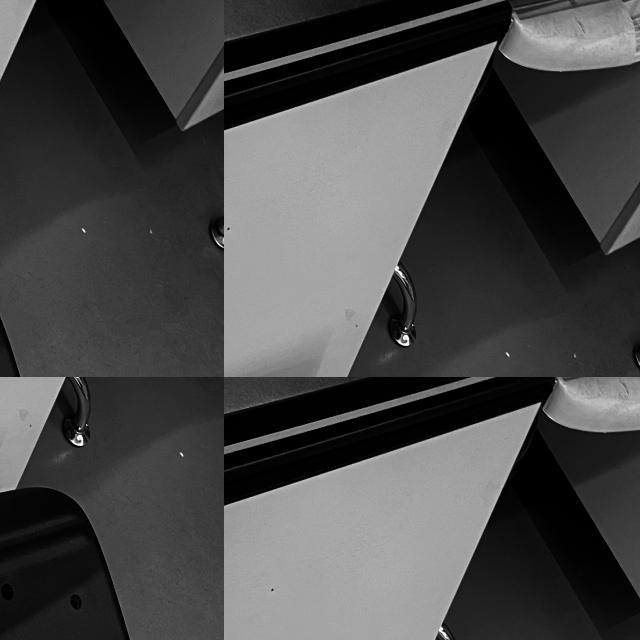Card: (0, 0, 224, 377), (224, 31, 383, 377), (0, 377, 36, 640), (86, 580, 224, 640), (224, 377, 313, 408)
